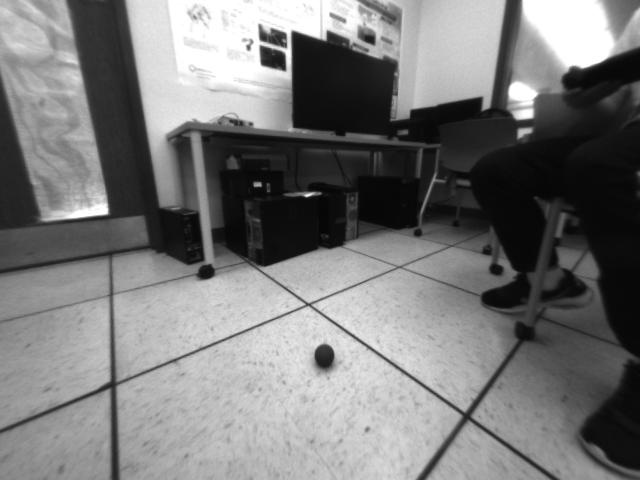dogtoy: (305, 334, 346, 375)
